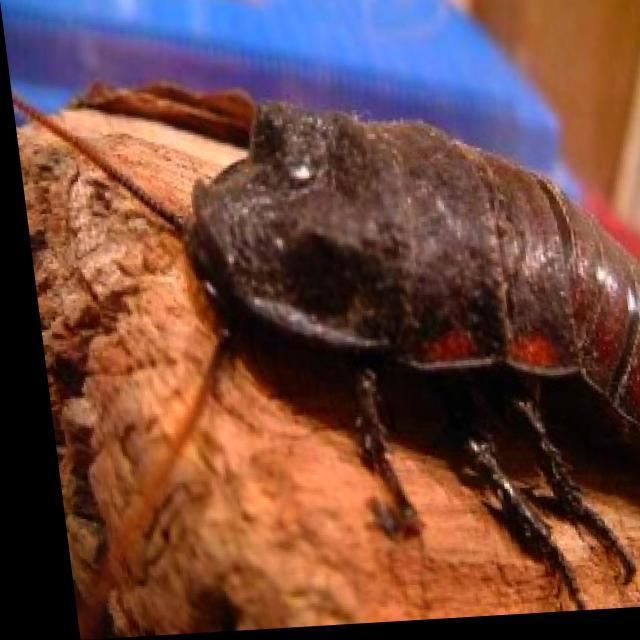cockroach: (185, 96, 638, 427)
